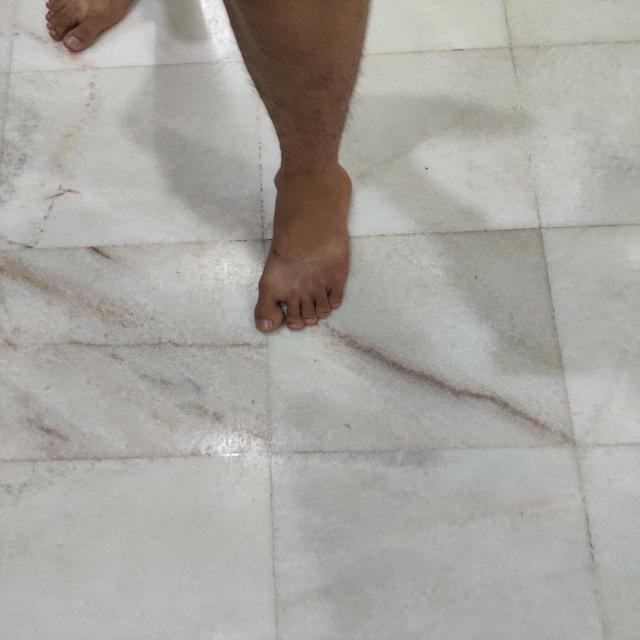No_Shoes: (236, 152, 390, 344)
